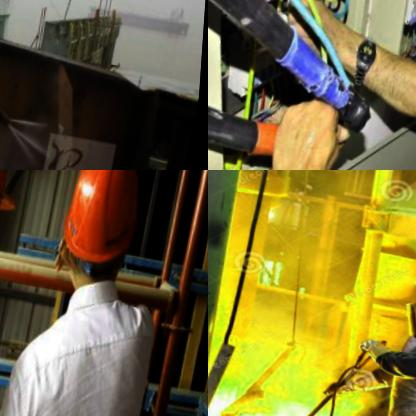helmet: (39, 170, 161, 312)
